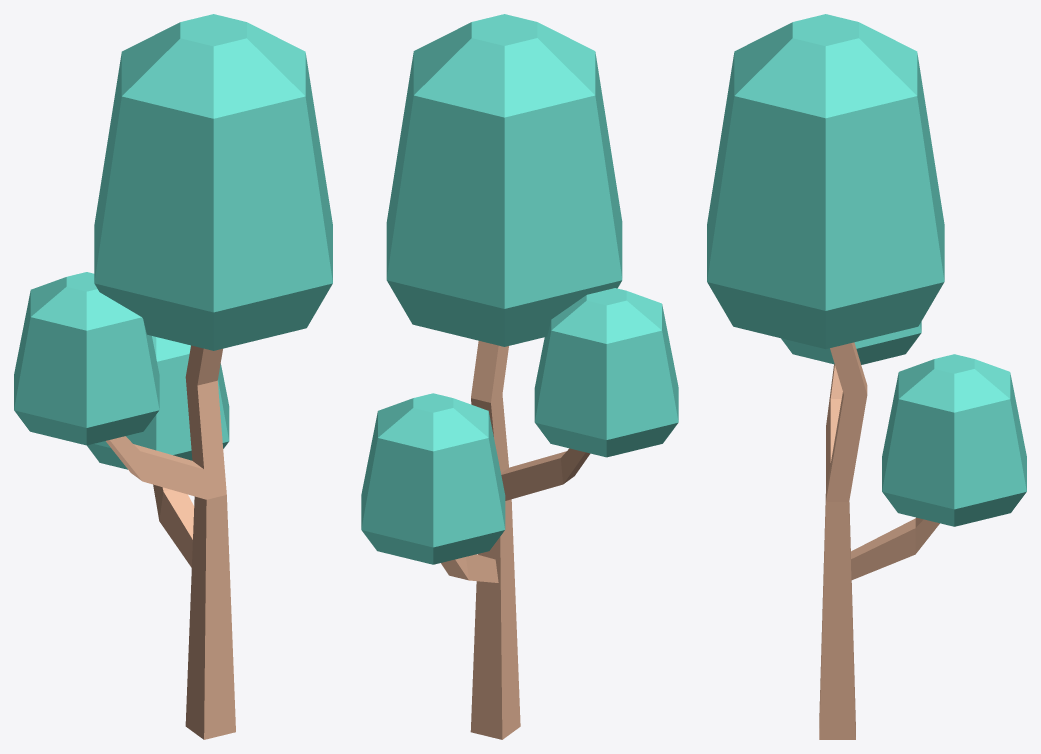
The model's file is tree_thin.gltf.
The picture shows the model from 3 angles, left to right: view 1: azimuth 30°, elevation 25°; view 2: azimuth 150°, elevation 25°; view 3: azimuth 270°, elevation 25°; orthographic projection.
Visible parts, largest first — view 1: tree_thin; view 2: tree_thin; view 3: tree_thin.
Part boxes in pixels (box(x1,y1,x2,y2)): tree_thin: box(14, 14, 332, 739); tree_thin: box(361, 14, 678, 739); tree_thin: box(707, 14, 1026, 739).
Bounding box in the file's own units: 0.6804 × 1.49 × 0.6165.
